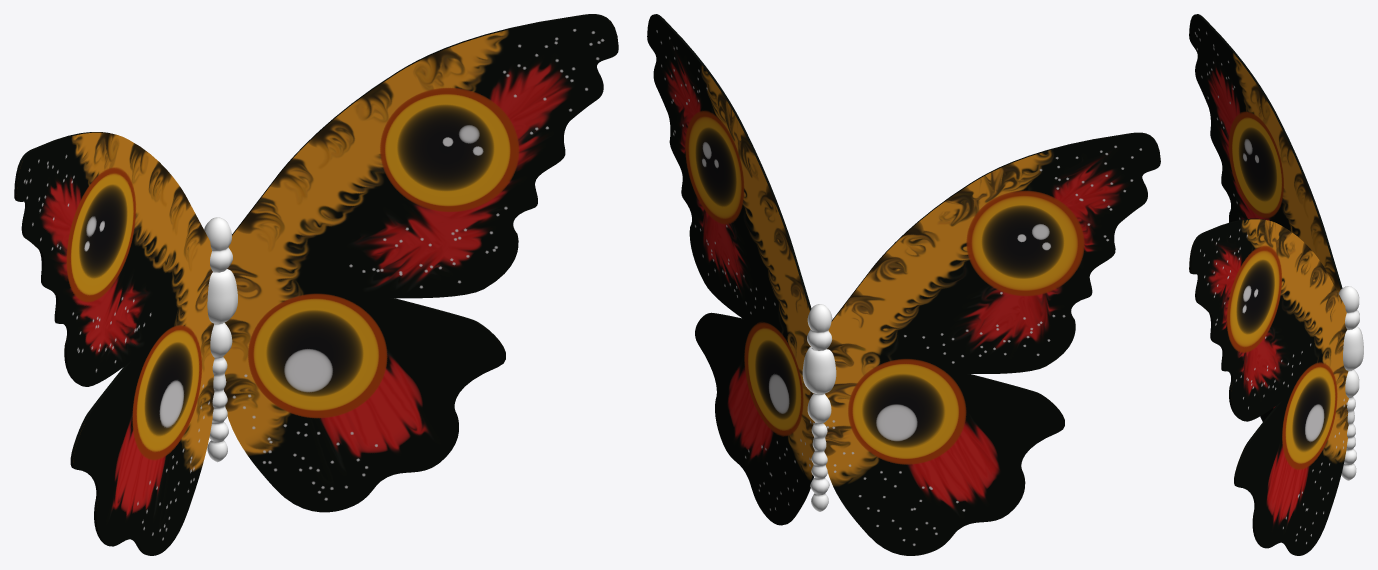
The model's file is butterfly8.gltf.
3 renders of one model, left to right at view 1: azimuth 30°, elevation 25°; view 2: azimuth 150°, elevation 25°; view 3: azimuth 270°, elevation 25°, orthographic. The views are drawn at different scales.
Parts seen in each view (by area): view 1: butterfly-wing-right.001, butterfly-wing-right, butterfly mesh; view 2: butterfly-wing-right, butterfly-wing-right.001, butterfly mesh; view 3: butterfly-wing-right.001, butterfly-wing-right, butterfly mesh.
Part boxes in pixels (left/top/right/bottom): butterfly-wing-right.001: left=223, top=14, right=618, bottom=512; butterfly-wing-right: left=14, top=132, right=214, bottom=555; butterfly mesh: left=204, top=217, right=237, bottom=462; butterfly-wing-right: left=823, top=132, right=1160, bottom=555; butterfly-wing-right.001: left=647, top=14, right=814, bottom=525; butterfly mesh: left=802, top=304, right=836, bottom=511; butterfly-wing-right.001: left=1189, top=218, right=1348, bottom=555; butterfly-wing-right: left=1189, top=14, right=1342, bottom=421; butterfly mesh: left=1338, top=286, right=1363, bottom=480.
Size of the model in its own units: 2.26 by 1.78 by 0.7126.
2 materials, 1 textured.
